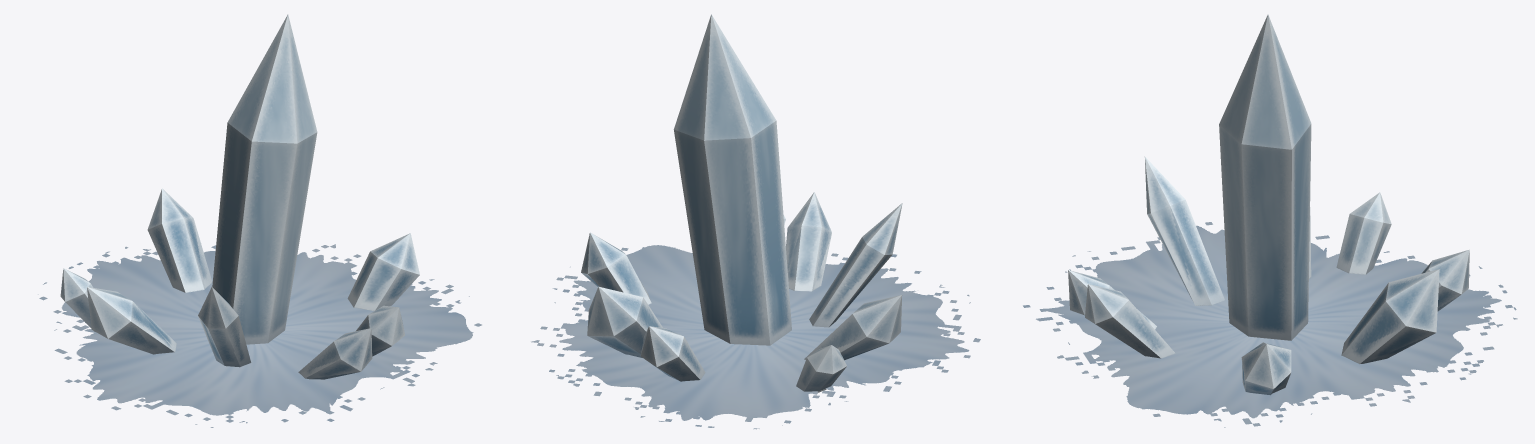
File: 펑크_얼음가시_01.fbx
3 renders of one model, left to right at view 1: azimuth 30°, elevation 25°; view 2: azimuth 150°, elevation 25°; view 3: azimuth 270°, elevation 25°, orthographic. The views are drawn at different scales.
Visible parts, largest first — view 1: 펑크_얼음가시_01; view 2: 펑크_얼음가시_01; view 3: 펑크_얼음가시_01.
Boxes of the visible parts, x1,y1,x2,y2 form: 펑크_얼음가시_01: (38, 14, 481, 427); 펑크_얼음가시_01: (531, 14, 980, 429); 펑크_얼음가시_01: (1023, 14, 1517, 427).
Bounding box in the file's own units: 400 × 290 × 400.
2 materials, 2 textured.
